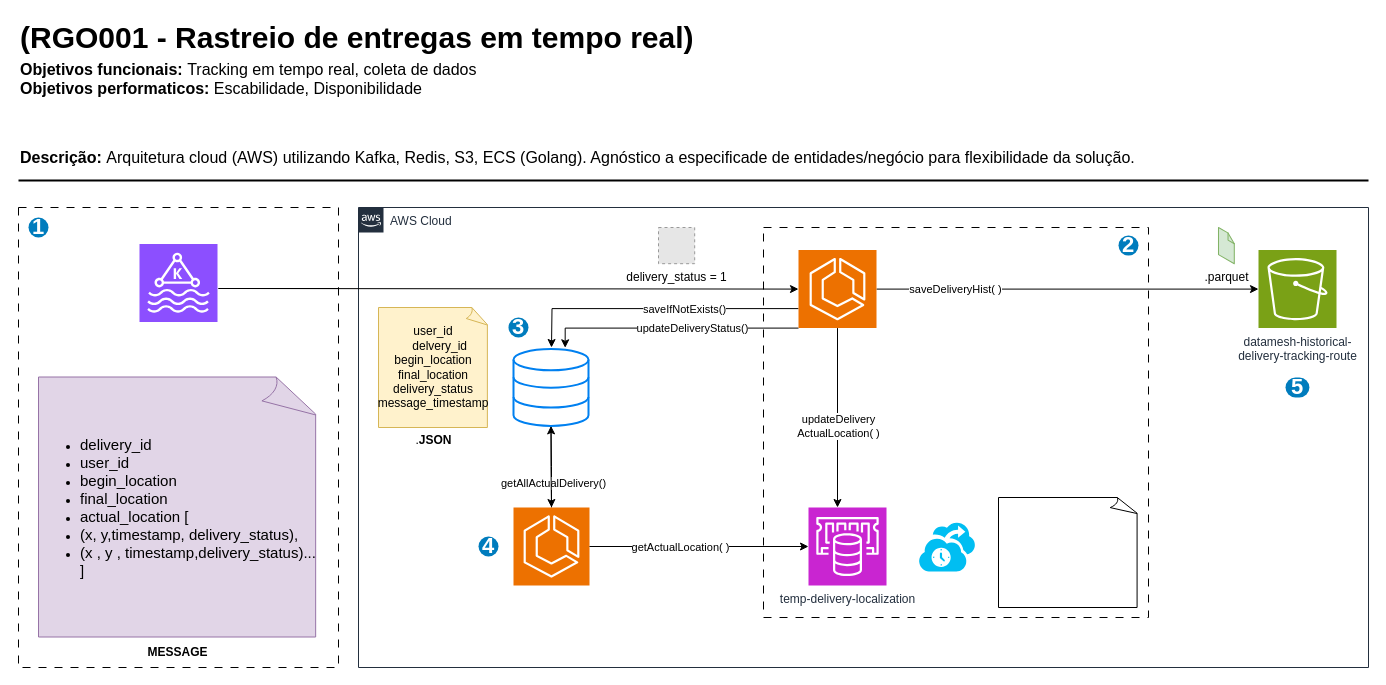
The diagram is 1386 pixels wide and 685 high, and some of its shapes have lost their labels. Grey dashed boxes stand in for pictures. Each missing label, with the centre of its shape:
"[nosql] rgo001_users_active_orders" belongs at point 550,387.
"Delivery API [RGOC-1000]" belongs at point 551,546.
"Delivery Orquestror [RGOC-2000]" belongs at point 837,288.
"delivery-tracking- notification" belongs at point 178,282.
"delivery_id actual_location" belongs at point 1068,552.
"RDB/AOF" belongs at point 946,546.
